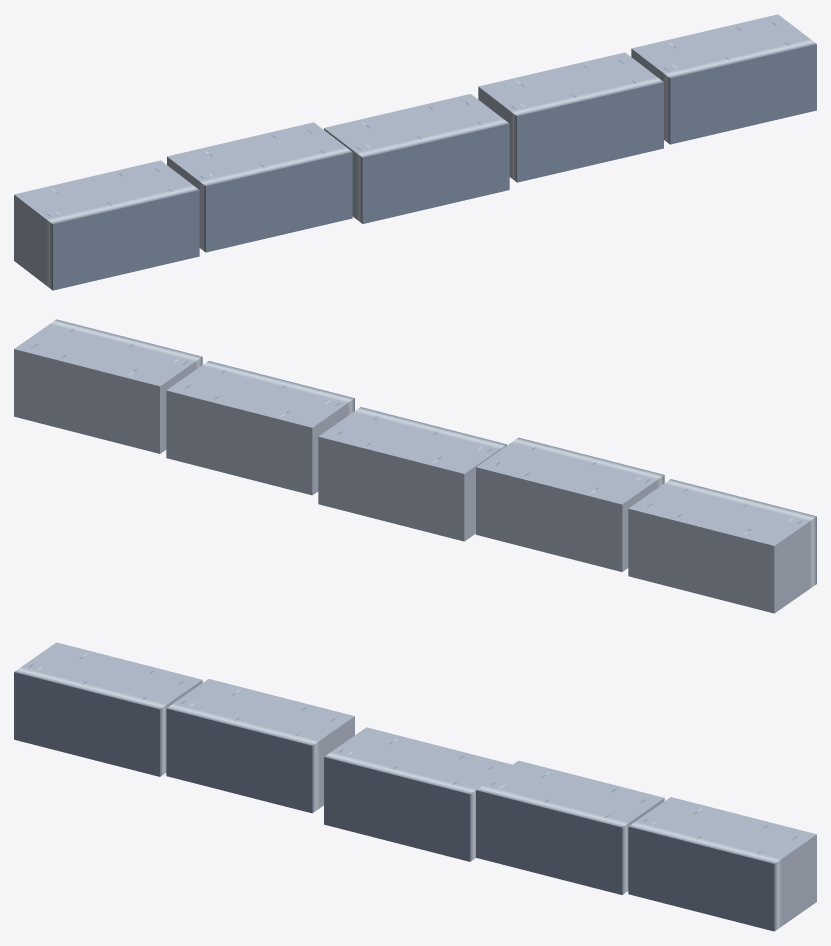
Rendered from Tijolos.fbx.
3 views of the same model, one above another, from view 1: azimuth 30°, elevation 25°; view 2: azimuth 150°, elevation 25°; view 3: azimuth 330°, elevation 25° (orthographic).
Visible parts, largest first — view 1: Tijolos; view 2: Tijolos; view 3: Tijolos.
Boxes of the visible parts, left/top/right/bottom form: Tijolos: left=14, top=14, right=816, bottom=290; Tijolos: left=14, top=319, right=816, bottom=613; Tijolos: left=14, top=642, right=816, bottom=931.
Size of the model in its own units: 789 by 88.87 by 74.85.
